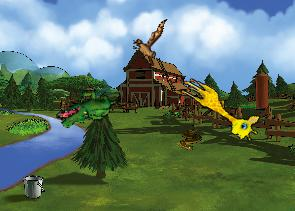crocodile: (53, 76, 121, 142)
eagle: (131, 19, 168, 67)
giraffe: (172, 74, 265, 145)
